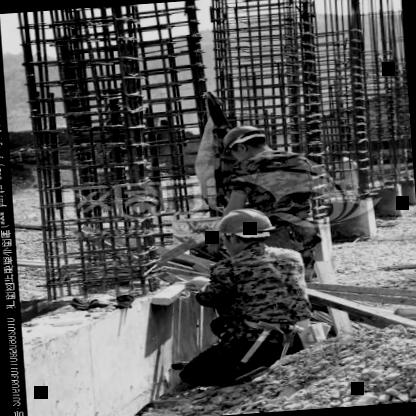helmet: (206, 198, 283, 263), (211, 119, 283, 169)
